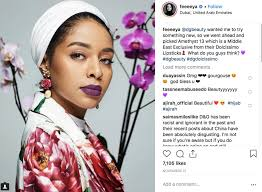middle_eastern_Female: (50, 4, 124, 114)
